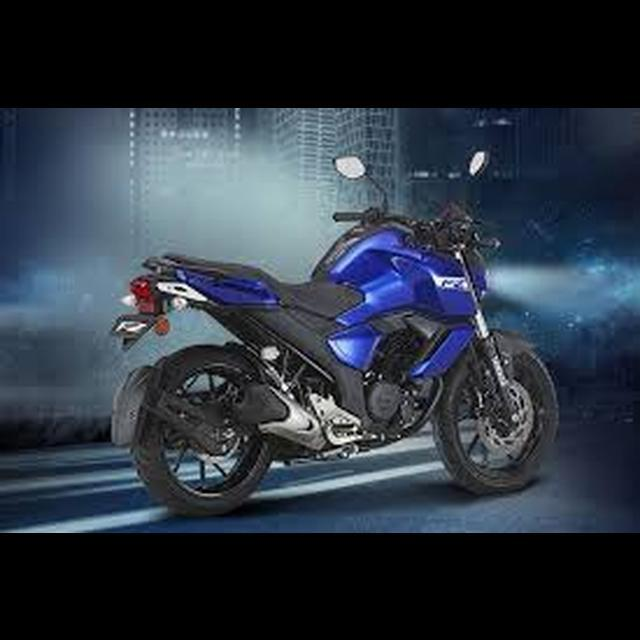motorcycle: (107, 143, 561, 522)
